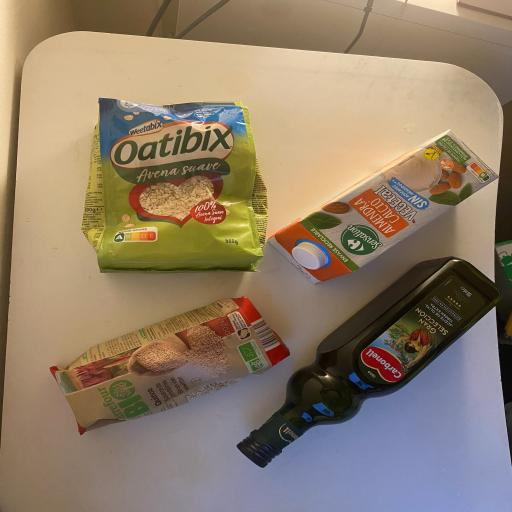almond_milk: (264, 129, 502, 285)
oats: (78, 94, 267, 275)
quinoa: (231, 256, 502, 470), (48, 295, 288, 437)
